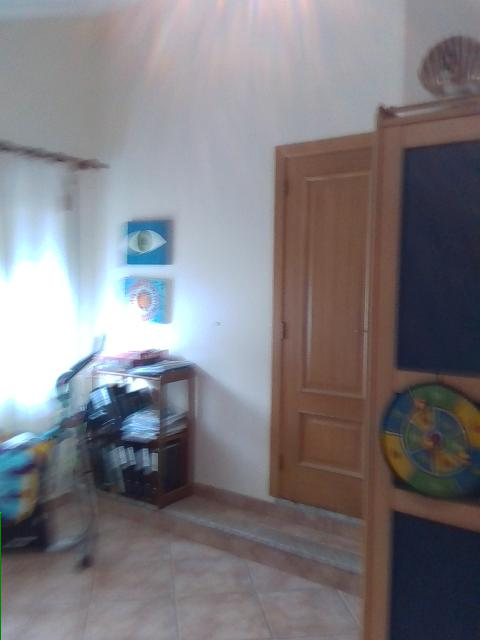door: (268, 127, 378, 522)
